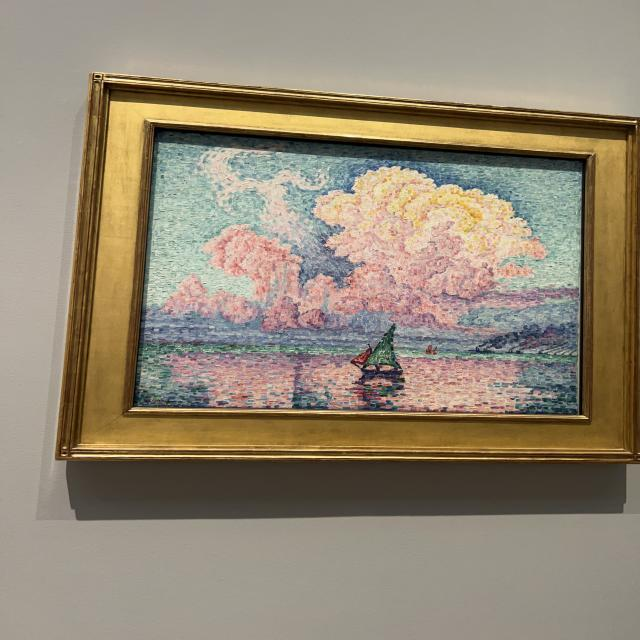sunrise: (142, 140, 582, 408)
